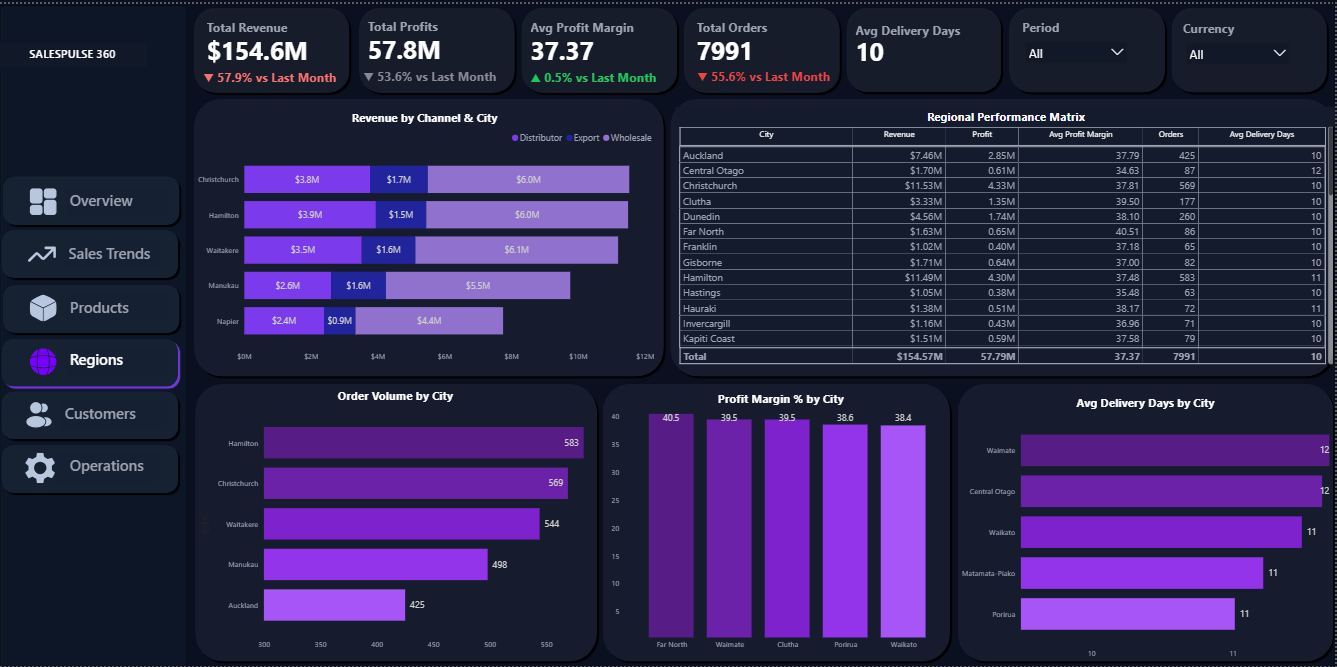

The dashboard page shown, as its layout file describes it:
{"tool":"powerbi","page":{"name":"Regions","canvas":[2185,1080],"ordinal":3},"visuals":[{"type":"shape","box":[315.4,614.6,667.1,465],"z":0},{"type":"shape","box":[1091.7,149.6,1093.7,465],"z":1000},{"type":"shape","box":[1380,0,264,150],"z":2000},{"type":"shape","box":[313.4,149.6,778.3,465],"z":3000},{"type":"shape","box":[583.1,0,265.7,150.8],"z":4000},{"type":"shape","box":[315.2,0,265,150.8],"z":5000},{"type":"shape","box":[848.7,0,265.7,150.8],"z":6000},{"type":"advanceCardE03760C5AB684758B56AA29F9E6C257B","title":"Avg Profit Margin","fields":{"mainMeasure":["CALENDAR_TABLE.Avg Profit Margin"]},"box":[869,24.8,186,76],"z":7000},{"type":"shape","box":[1114.4,0,265.7,150.8],"z":8000},{"type":"shape","box":[0,0,311.3,1101.8],"z":9000},{"type":"shape","box":[2,274.9,300,91],"z":10000},{"type":"textbox","box":[112.8,300.9,166.6,47.3],"z":11000},{"type":"shape","box":[0.1,363.5,300,90],"z":12000},{"type":"shape","box":[1,453.2,300,90.1],"z":13000},{"type":"shape","box":[0,540.6,300,90],"z":14000},{"type":"shape","box":[-1,627.3,300,90.1],"z":15000},{"type":"shape","box":[0,714.5,300,90],"z":16000},{"type":"textbox","box":[111.4,473.4,166.6,42.8],"z":17000},{"type":"textbox","box":[111.4,559.3,166.6,49.5],"z":18000},{"type":"textbox","box":[104.8,647.6,171.1,49.5],"z":19000},{"type":"textbox","box":[91.8,731.9,171.1,54],"z":20000},{"type":"image","box":[49.3,298.2,49.5,49.5],"z":21000},{"type":"image","box":[47.2,384.5,49.5,49.5],"z":22000},{"type":"image","box":[48.3,471.6,49.5,49.5],"z":23000},{"type":"image","box":[48.4,559.3,49.5,49.5],"z":24000},{"type":"image","box":[41.8,647.6,54,49.5],"z":25000},{"type":"image","box":[40.1,731.9,56.3,49.5],"z":26000},{"type":"textbox","box":[110.3,386.3,153.1,45],"z":27000},{"type":"textbox","box":[246.2,132.5,66.2,33.8],"z":28000},{"type":"advanceCardE03760C5AB684758B56AA29F9E6C257B","title":"Total Orders","fields":{"mainMeasure":["CALENDAR_TABLE.Total Orders"]},"box":[1140,24,186,76],"z":29000},{"type":"advanceCardE03760C5AB684758B56AA29F9E6C257B","title":"Total Profits","fields":{"mainMeasure":["CALENDAR_TABLE.Total Profit"]},"box":[603.3,22.5,186.9,76.5],"z":30000},{"type":"advanceCardE03760C5AB684758B56AA29F9E6C257B","title":"Avg Delivery Days","fields":{"mainMeasure":["CALENDAR_TABLE.Avg Delivery Days"]},"box":[1400,28,226,72],"z":31000},{"type":"shape","box":[982.5,614.6,578.2,465],"z":32000},{"type":"shape","box":[1560.7,614.6,624.7,465],"z":33000},{"type":"advanceCardE03760C5AB684758B56AA29F9E6C257B","title":"Total Revenue","fields":{"mainMeasure":["CALENDAR_TABLE.Total Revenue"]},"box":[339.9,24.8,186.9,76.5],"z":34000},{"type":"card","fields":{"Values":["CALENDAR_TABLE.Revenue Trend Label"]},"box":[310.7,101.3,267.9,40.5],"z":35000},{"type":"card","fields":{"Values":["CALENDAR_TABLE.Profit Trend Label"]},"box":[571.8,99.1,267.9,40.5],"z":36000},{"type":"card","fields":{"Values":["CALENDAR_TABLE.Orders Trend Label"]},"box":[1116,100,268,40],"z":37000},{"type":"card","fields":{"Values":["CALENDAR_TABLE.Profit Margin Trend Label"]},"box":[839.7,101.3,267,40],"z":38000},{"type":"shape","box":[1644,0,266,150],"z":39000},{"type":"slicer","title":"Period","fields":{"Values":["CALENDAR_TABLE.YEAR","CALENDAR_TABLE.MONTH_NAME"]},"box":[1668,24,186,76],"z":40000},{"type":"pageNavigator","box":[0,279,299.2,86],"z":41000},{"type":"shape","box":[1910,0,265,150],"z":42000},{"type":"slicer","title":"Currency","fields":{"Values":["SALES_ANALYTICS_MASTER.CURRENCY_CODE"]},"box":[1932.5,27.5,186,75],"z":43000},{"type":"pageNavigator","box":[0,365.9,299.2,86.9],"z":44000},{"type":"pageNavigator","box":[0,454.9,299.2,86],"z":45000},{"type":"pageNavigator","box":[0,540,300,86.7],"z":46000},{"type":"pageNavigator","box":[0,713.3,298.3,86.7],"z":47000},{"type":"barChart","title":"Revenue by Channel & City","fields":{"Y":["CALENDAR_TABLE.Total Revenue"],"Category":["SALES_ANALYTICS_MASTER.CITY"],"Series":["SALES_ANALYTICS_MASTER.CHANNEL"]},"box":[315.4,167.8,776.3,440.7],"z":48000},{"type":"tableEx","title":"Regional Performance Matrix","fields":{"Values":["SALES_ANALYTICS_MASTER.CITY","CALENDAR_TABLE.Total Revenue","CALENDAR_TABLE.Total Profit","CALENDAR_TABLE.Avg Profit Margin","CALENDAR_TABLE.Total Orders","CALENDAR_TABLE.Avg Delivery Days"]},"box":[1105.8,167.8,1079.6,440.7],"z":49000},{"type":"clusteredBarChart","title":"Order Volume by City","fields":{"Y":["CALENDAR_TABLE.Total Orders"],"Category":["SALES_ANALYTICS_MASTER.CITY"]},"box":[327.5,626.7,644.9,452.8],"z":50000},{"type":"clusteredBarChart","title":"Avg Delivery Days by City","fields":{"Y":["CALENDAR_TABLE.Avg Delivery Days"],"Category":["SALES_ANALYTICS_MASTER.CITY"]},"box":[1560.7,630.8,624.7,448.8],"z":51000},{"type":"clusteredColumnChart","title":"Profit Margin % by City","fields":{"Category":["SALES_ANALYTICS_MASTER.CITY"],"Y":["CALENDAR_TABLE.Avg Profit Margin"]},"box":[982.5,630.8,578.2,448.8],"z":52000},{"type":"pageNavigator","box":[0,629,298.3,86.7],"z":53000},{"type":"image","box":[62.2,0,201.1,170],"z":54000},{"type":"textbox","box":[0,153.2,260.9,88.6],"z":55000},{"type":"textbox","box":[222.6,153.2,93.4,69.4],"z":56000}]}

Visuals, with their boxes on the page's 2185x1080 design canvas (x1, y1, x2, y2). These are canvas units, not pixel positions in the 1337x667 screenshot, which may show the page scaled, cropped or inside an application window:
shape: rect(315, 615, 982, 1080)
shape: rect(1092, 150, 2185, 615)
shape: rect(1380, 0, 1644, 150)
shape: rect(313, 150, 1092, 615)
shape: rect(583, 0, 849, 151)
shape: rect(315, 0, 580, 151)
shape: rect(849, 0, 1114, 151)
"Avg Profit Margin" advanceCardE03760C5AB684758B56AA29F9E6C257B: rect(869, 25, 1055, 101)
shape: rect(1114, 0, 1380, 151)
shape: rect(0, 0, 311, 1102)
shape: rect(2, 275, 302, 366)
textbox: rect(113, 301, 279, 348)
shape: rect(0, 364, 300, 454)
shape: rect(1, 453, 301, 543)
shape: rect(0, 541, 300, 631)
shape: rect(-1, 627, 299, 717)
shape: rect(0, 714, 300, 804)
textbox: rect(111, 473, 278, 516)
textbox: rect(111, 559, 278, 609)
textbox: rect(105, 648, 276, 697)
textbox: rect(92, 732, 263, 786)
image: rect(49, 298, 99, 348)
image: rect(47, 384, 97, 434)
image: rect(48, 472, 98, 521)
image: rect(48, 559, 98, 609)
image: rect(42, 648, 96, 697)
image: rect(40, 732, 96, 781)
textbox: rect(110, 386, 263, 431)
textbox: rect(246, 132, 312, 166)
"Total Orders" advanceCardE03760C5AB684758B56AA29F9E6C257B: rect(1140, 24, 1326, 100)
"Total Profits" advanceCardE03760C5AB684758B56AA29F9E6C257B: rect(603, 22, 790, 99)
"Avg Delivery Days" advanceCardE03760C5AB684758B56AA29F9E6C257B: rect(1400, 28, 1626, 100)
shape: rect(982, 615, 1561, 1080)
shape: rect(1561, 615, 2185, 1080)
"Total Revenue" advanceCardE03760C5AB684758B56AA29F9E6C257B: rect(340, 25, 527, 101)
card - CALENDAR_TABLE.Revenue Trend Label: rect(311, 101, 579, 142)
card - CALENDAR_TABLE.Profit Trend Label: rect(572, 99, 840, 140)
card - CALENDAR_TABLE.Orders Trend Label: rect(1116, 100, 1384, 140)
card - CALENDAR_TABLE.Profit Margin Trend Label: rect(840, 101, 1107, 141)
shape: rect(1644, 0, 1910, 150)
"Period" slicer: rect(1668, 24, 1854, 100)
pageNavigator: rect(0, 279, 299, 365)
shape: rect(1910, 0, 2175, 150)
"Currency" slicer: rect(1932, 28, 2118, 102)
pageNavigator: rect(0, 366, 299, 453)
pageNavigator: rect(0, 455, 299, 541)
pageNavigator: rect(0, 540, 300, 627)
pageNavigator: rect(0, 713, 298, 800)
"Revenue by Channel & City" barChart: rect(315, 168, 1092, 608)
"Regional Performance Matrix" tableEx: rect(1106, 168, 2185, 608)
"Order Volume by City" clusteredBarChart: rect(328, 627, 972, 1080)
"Avg Delivery Days by City" clusteredBarChart: rect(1561, 631, 2185, 1080)
"Profit Margin % by City" clusteredColumnChart: rect(982, 631, 1561, 1080)
pageNavigator: rect(0, 629, 298, 716)
image: rect(62, 0, 263, 170)
textbox: rect(0, 153, 261, 242)
textbox: rect(223, 153, 316, 223)
